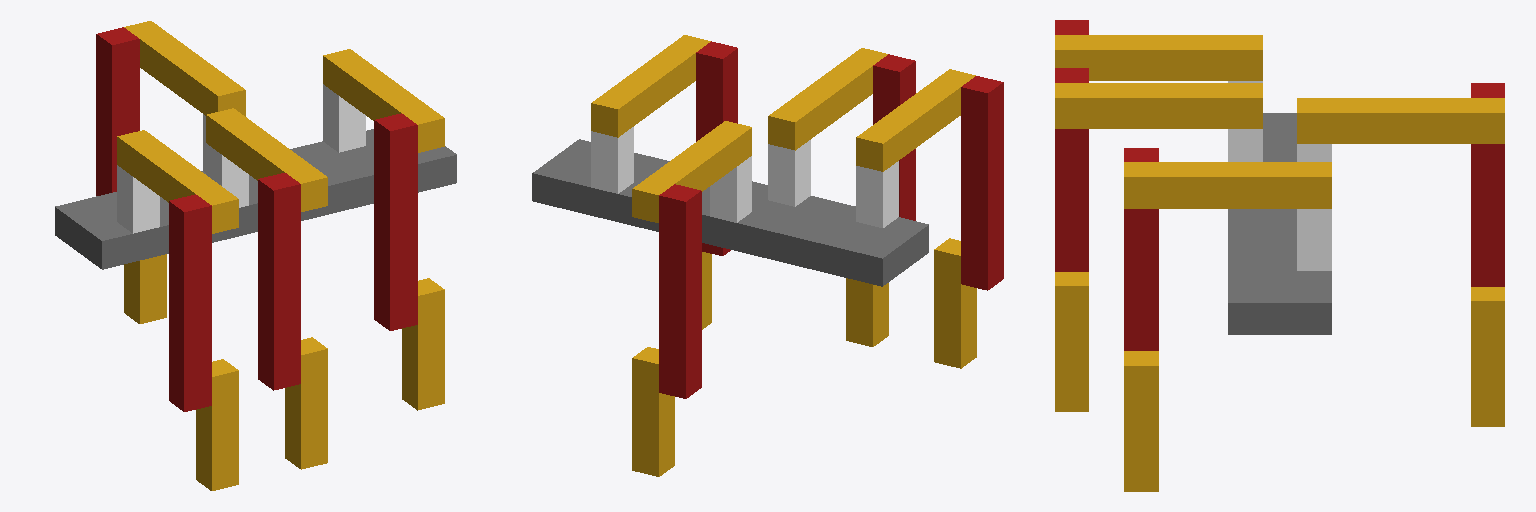
URDF robot description (v0):
<?xml version="1.0" encoding="utf-8"?>
<!-- =================================================================================== -->
<!-- |    This document was autogenerated by xacro from ../robots/v0variants/xacros/v0_4l_gen_1.xacro | -->
<!-- |    EDITING THIS FILE BY HAND IS NOT RECOMMENDED                                 | -->
<!-- =================================================================================== -->
<robot name="v0">
  <material name="grey">
    <color rgba="0.5 0.5 0.5 1"/>
  </material>
  <material name="white">
    <color rgba="1 1 1 1"/>
  </material>
  <material name="yellow">
    <color rgba="0.91 0.7 0.14 1"/>
  </material>
  <material name="red">
    <color rgba="0.71 0.14 0.14 1"/>
  </material>
  <link name="body">
    <visual>
      <geometry>
        <box size="1.3 0.3 0.1"/>
      </geometry>
      <material name="grey"/>
      <origin rpy="0 0 0" xyz="0 0 0.7"/>
    </visual>
    <collision>
      <geometry>
        <box size="1.3 0.3 0.1"/>
      </geometry>
      <origin rpy="0 0 0" xyz="0 0 0.7"/>
    </collision>
    <inertial>
      <mass value="99.84"/>
      <inertia ixx="0.832" ixy="0.0" ixz="0.0" iyy="14.144" iyz="0.0" izz="14.8096"/>
    </inertial>
  </link>
  <link name="l1_segment_1">
    <visual>
      <geometry>
        <box size="0.1 0.1 0.2"/>
      </geometry>
      <material name="white"/>
      <origin rpy="0 0 0" xyz="0 0 0.1"/>
    </visual>
    <collision>
      <geometry>
        <box size="0.1 0.1 0.2"/>
      </geometry>
      <origin rpy="0 0 0" xyz="0 0 0.1"/>
    </collision>
    <inertial>
      <mass value="5.12"/>
      <inertia ixx="0.0213333333333" ixy="0.0" ixz="0.0" iyy="0.0213333333333" iyz="0.0" izz="0.00853333333333"/>
    </inertial>
  </link>
  <joint name="l1_base_to_joint_1" type="fixed">
    <parent link="body"/>
    <child link="l1_segment_1"/>
    <origin rpy="0 0 0" xyz="-0.4871025963219311 -0.1 0.75"/>
  </joint>
  <link name="l1_segment_2_HIP">
    <visual>
      <geometry>
        <box size="0.1 0.6 0.1"/>
      </geometry>
      <material name="yellow"/>
      <origin rpy="0 0 0" xyz="0 -0.25 0"/>
    </visual>
    <collision>
      <geometry>
        <box size="0.1 0.6 0.1"/>
      </geometry>
      <origin rpy="0 0 0" xyz="0 -0.25 0"/>
    </collision>
    <inertial>
      <mass value="15.36"/>
      <inertia ixx="0.4736" ixy="0.0" ixz="0.0" iyy="0.0256" iyz="0.0" izz="0.4736"/>
    </inertial>
  </link>
  <joint name="l1_joint_1_to_2" type="revolute">
    <parent link="l1_segment_1"/>
    <child link="l1_segment_2_HIP"/>
    <origin rpy="0 0 0" xyz="0 0 0.25"/>
    <axis xyz="0.0 0.0 1.0"/>
    <limit effort="2048" lower="-1.2" upper="1.2" velocity="20"/>
  </joint>
  <link name="l1_segment_3_THIGH">
    <visual>
      <geometry>
        <box size="0.1 0.1 0.7"/>
      </geometry>
      <material name="red"/>
      <origin rpy="0 0 0" xyz="0 0 -0.3"/>
    </visual>
    <collision>
      <geometry>
        <box size="0.1 0.1 0.7"/>
      </geometry>
      <origin rpy="0 0 0" xyz="0 0 -0.3"/>
    </collision>
    <inertial>
      <mass value="17.92"/>
      <inertia ixx="0.746666666667" ixy="0.0" ixz="0.0" iyy="0.746666666667" iyz="0.0" izz="0.0298666666667"/>
    </inertial>
  </link>
  <joint name="l1_joint_2_to_3" type="revolute">
    <parent link="l1_segment_2_HIP"/>
    <child link="l1_segment_3_THIGH"/>
    <origin rpy="0 0 0" xyz="-0.1 -0.5 0"/>
    <axis xyz="1.0 0.0 0.0"/>
    <limit effort="2048" lower="-0.75" upper="0.2" velocity="20"/>
  </joint>
  <link name="l1_segment_4_FOOT">
    <visual>
      <geometry>
        <box size="0.1 0.1 0.4"/>
      </geometry>
      <material name="yellow"/>
      <origin rpy="0 0 0" xyz="0 0 -0.2"/>
    </visual>
    <collision>
      <geometry>
        <box size="0.1 0.1 0.4"/>
      </geometry>
      <origin rpy="0 0 0" xyz="0 0 -0.2"/>
    </collision>
    <inertial>
      <mass value="10.24"/>
      <inertia ixx="0.145066666667" ixy="0.0" ixz="0.0" iyy="0.145066666667" iyz="0.0" izz="0.0170666666667"/>
    </inertial>
  </link>
  <joint name="l1_joint_3_to_4_FOOT" type="revolute">
    <parent link="l1_segment_3_THIGH"/>
    <child link="l1_segment_4_FOOT"/>
    <origin rpy="0 0 0" xyz="0.1 0 -0.55"/>
    <axis xyz="1.0 0.0 0.0"/>
    <limit effort="2048" lower="-0.5" upper="0.2" velocity="20"/>
  </joint>
  <link name="l2_segment_1">
    <visual>
      <geometry>
        <box size="0.1 0.1 0.2"/>
      </geometry>
      <material name="white"/>
      <origin rpy="0 0 0" xyz="0 0 0.1"/>
    </visual>
    <collision>
      <geometry>
        <box size="0.1 0.1 0.2"/>
      </geometry>
      <origin rpy="0 0 0" xyz="0 0 0.1"/>
    </collision>
    <inertial>
      <mass value="5.12"/>
      <inertia ixx="0.0213333333333" ixy="0.0" ixz="0.0" iyy="0.0213333333333" iyz="0.0" izz="0.00853333333333"/>
    </inertial>
  </link>
  <joint name="l2_base_to_joint_1" type="fixed">
    <parent link="body"/>
    <child link="l2_segment_1"/>
    <origin rpy="0 0 0" xyz="-0.058941475037167956 0.1 0.75"/>
  </joint>
  <link name="l2_segment_2_HIP">
    <visual>
      <geometry>
        <box size="0.1 0.6 0.1"/>
      </geometry>
      <material name="yellow"/>
      <origin rpy="0 0 0" xyz="0 0.25 0"/>
    </visual>
    <collision>
      <geometry>
        <box size="0.1 0.6 0.1"/>
      </geometry>
      <origin rpy="0 0 0" xyz="0 0.25 0"/>
    </collision>
    <inertial>
      <mass value="15.36"/>
      <inertia ixx="0.4736" ixy="0.0" ixz="0.0" iyy="0.0256" iyz="0.0" izz="0.4736"/>
    </inertial>
  </link>
  <joint name="l2_joint_1_to_2" type="revolute">
    <parent link="l2_segment_1"/>
    <child link="l2_segment_2_HIP"/>
    <origin rpy="0 0 0" xyz="0 0 0.25"/>
    <axis xyz="0.0 0.0 1.0"/>
    <limit effort="2048" lower="-1.2" upper="1.2" velocity="20"/>
  </joint>
  <link name="l2_segment_3_THIGH">
    <visual>
      <geometry>
        <box size="0.1 0.1 0.7"/>
      </geometry>
      <material name="red"/>
      <origin rpy="0 0 0" xyz="0 0 -0.3"/>
    </visual>
    <collision>
      <geometry>
        <box size="0.1 0.1 0.7"/>
      </geometry>
      <origin rpy="0 0 0" xyz="0 0 -0.3"/>
    </collision>
    <inertial>
      <mass value="17.92"/>
      <inertia ixx="0.746666666667" ixy="0.0" ixz="0.0" iyy="0.746666666667" iyz="0.0" izz="0.0298666666667"/>
    </inertial>
  </link>
  <joint name="l2_joint_2_to_3" type="revolute">
    <parent link="l2_segment_2_HIP"/>
    <child link="l2_segment_3_THIGH"/>
    <origin rpy="0 0 0" xyz="-0.1 0.5 0"/>
    <axis xyz="1.0 0.0 0.0"/>
    <limit effort="2048" lower="-0.2" upper="0.75" velocity="20"/>
  </joint>
  <link name="l2_segment_4_FOOT">
    <visual>
      <geometry>
        <box size="0.1 0.1 0.4"/>
      </geometry>
      <material name="yellow"/>
      <origin rpy="0 0 0" xyz="0 0 -0.2"/>
    </visual>
    <collision>
      <geometry>
        <box size="0.1 0.1 0.4"/>
      </geometry>
      <origin rpy="0 0 0" xyz="0 0 -0.2"/>
    </collision>
    <inertial>
      <mass value="10.24"/>
      <inertia ixx="0.145066666667" ixy="0.0" ixz="0.0" iyy="0.145066666667" iyz="0.0" izz="0.0170666666667"/>
    </inertial>
  </link>
  <joint name="l2_joint_3_to_4_FOOT" type="revolute">
    <parent link="l2_segment_3_THIGH"/>
    <child link="l2_segment_4_FOOT"/>
    <origin rpy="0 0 0" xyz="0.1 0 -0.55"/>
    <axis xyz="1.0 0.0 0.0"/>
    <limit effort="2048" lower="-0.2" upper="0.5" velocity="20"/>
  </joint>
  <link name="l3_segment_1">
    <visual>
      <geometry>
        <box size="0.1 0.1 0.2"/>
      </geometry>
      <material name="white"/>
      <origin rpy="0 0 0" xyz="0 0 0.1"/>
    </visual>
    <collision>
      <geometry>
        <box size="0.1 0.1 0.2"/>
      </geometry>
      <origin rpy="0 0 0" xyz="0 0 0.1"/>
    </collision>
    <inertial>
      <mass value="5.12"/>
      <inertia ixx="0.0213333333333" ixy="0.0" ixz="0.0" iyy="0.0213333333333" iyz="0.0" izz="0.00853333333333"/>
    </inertial>
  </link>
  <joint name="l3_base_to_joint_1" type="fixed">
    <parent link="body"/>
    <child link="l3_segment_1"/>
    <origin rpy="0 0 0" xyz="0.3816823201203895 0.1 0.75"/>
  </joint>
  <link name="l3_segment_2_HIP">
    <visual>
      <geometry>
        <box size="0.1 0.6 0.1"/>
      </geometry>
      <material name="yellow"/>
      <origin rpy="0 0 0" xyz="0 -0.25 0"/>
    </visual>
    <collision>
      <geometry>
        <box size="0.1 0.6 0.1"/>
      </geometry>
      <origin rpy="0 0 0" xyz="0 -0.25 0"/>
    </collision>
    <inertial>
      <mass value="15.36"/>
      <inertia ixx="0.4736" ixy="0.0" ixz="0.0" iyy="0.0256" iyz="0.0" izz="0.4736"/>
    </inertial>
  </link>
  <joint name="l3_joint_1_to_2" type="revolute">
    <parent link="l3_segment_1"/>
    <child link="l3_segment_2_HIP"/>
    <origin rpy="0 0 0" xyz="0 0 0.25"/>
    <axis xyz="0.0 0.0 1.0"/>
    <limit effort="2048" lower="-1.2" upper="1.2" velocity="20"/>
  </joint>
  <link name="l3_segment_3_THIGH">
    <visual>
      <geometry>
        <box size="0.1 0.1 0.7"/>
      </geometry>
      <material name="red"/>
      <origin rpy="0 0 0" xyz="0 0 -0.3"/>
    </visual>
    <collision>
      <geometry>
        <box size="0.1 0.1 0.7"/>
      </geometry>
      <origin rpy="0 0 0" xyz="0 0 -0.3"/>
    </collision>
    <inertial>
      <mass value="17.92"/>
      <inertia ixx="0.746666666667" ixy="0.0" ixz="0.0" iyy="0.746666666667" iyz="0.0" izz="0.0298666666667"/>
    </inertial>
  </link>
  <joint name="l3_joint_2_to_3" type="revolute">
    <parent link="l3_segment_2_HIP"/>
    <child link="l3_segment_3_THIGH"/>
    <origin rpy="0 0 0" xyz="-0.1 -0.5 0"/>
    <axis xyz="1.0 0.0 0.0"/>
    <limit effort="2048" lower="-0.75" upper="0.2" velocity="20"/>
  </joint>
  <link name="l3_segment_4_FOOT">
    <visual>
      <geometry>
        <box size="0.1 0.1 0.4"/>
      </geometry>
      <material name="yellow"/>
      <origin rpy="0 0 0" xyz="0 0 -0.2"/>
    </visual>
    <collision>
      <geometry>
        <box size="0.1 0.1 0.4"/>
      </geometry>
      <origin rpy="0 0 0" xyz="0 0 -0.2"/>
    </collision>
    <inertial>
      <mass value="10.24"/>
      <inertia ixx="0.145066666667" ixy="0.0" ixz="0.0" iyy="0.145066666667" iyz="0.0" izz="0.0170666666667"/>
    </inertial>
  </link>
  <joint name="l3_joint_3_to_4_FOOT" type="revolute">
    <parent link="l3_segment_3_THIGH"/>
    <child link="l3_segment_4_FOOT"/>
    <origin rpy="0 0 0" xyz="0.1 0 -0.55"/>
    <axis xyz="1.0 0.0 0.0"/>
    <limit effort="2048" lower="-0.5" upper="0.2" velocity="20"/>
  </joint>
  <link name="l4_segment_1">
    <visual>
      <geometry>
        <box size="0.1 0.1 0.2"/>
      </geometry>
      <material name="white"/>
      <origin rpy="0 0 0" xyz="0 0 0.1"/>
    </visual>
    <collision>
      <geometry>
        <box size="0.1 0.1 0.2"/>
      </geometry>
      <origin rpy="0 0 0" xyz="0 0 0.1"/>
    </collision>
    <inertial>
      <mass value="5.12"/>
      <inertia ixx="0.0213333333333" ixy="0.0" ixz="0.0" iyy="0.0213333333333" iyz="0.0" izz="0.00853333333333"/>
    </inertial>
  </link>
  <joint name="l4_base_to_joint_1" type="fixed">
    <parent link="body"/>
    <child link="l4_segment_1"/>
    <origin rpy="0 0 0" xyz="-0.16084594429524163 -0.1 0.75"/>
  </joint>
  <link name="l4_segment_2_HIP">
    <visual>
      <geometry>
        <box size="0.1 0.6 0.1"/>
      </geometry>
      <material name="yellow"/>
      <origin rpy="0 0 0" xyz="0 -0.25 0"/>
    </visual>
    <collision>
      <geometry>
        <box size="0.1 0.6 0.1"/>
      </geometry>
      <origin rpy="0 0 0" xyz="0 -0.25 0"/>
    </collision>
    <inertial>
      <mass value="15.36"/>
      <inertia ixx="0.4736" ixy="0.0" ixz="0.0" iyy="0.0256" iyz="0.0" izz="0.4736"/>
    </inertial>
  </link>
  <joint name="l4_joint_1_to_2" type="revolute">
    <parent link="l4_segment_1"/>
    <child link="l4_segment_2_HIP"/>
    <origin rpy="0 0 0" xyz="0 0 0.25"/>
    <axis xyz="0.0 0.0 1.0"/>
    <limit effort="2048" lower="-1.2" upper="1.2" velocity="20"/>
  </joint>
  <link name="l4_segment_3_THIGH">
    <visual>
      <geometry>
        <box size="0.1 0.1 0.7"/>
      </geometry>
      <material name="red"/>
      <origin rpy="0 0 0" xyz="0 0 -0.3"/>
    </visual>
    <collision>
      <geometry>
        <box size="0.1 0.1 0.7"/>
      </geometry>
      <origin rpy="0 0 0" xyz="0 0 -0.3"/>
    </collision>
    <inertial>
      <mass value="17.92"/>
      <inertia ixx="0.746666666667" ixy="0.0" ixz="0.0" iyy="0.746666666667" iyz="0.0" izz="0.0298666666667"/>
    </inertial>
  </link>
  <joint name="l4_joint_2_to_3" type="revolute">
    <parent link="l4_segment_2_HIP"/>
    <child link="l4_segment_3_THIGH"/>
    <origin rpy="0 0 0" xyz="-0.1 -0.5 0"/>
    <axis xyz="1.0 0.0 0.0"/>
    <limit effort="2048" lower="-0.75" upper="0.2" velocity="20"/>
  </joint>
  <link name="l4_segment_4_FOOT">
    <visual>
      <geometry>
        <box size="0.1 0.1 0.4"/>
      </geometry>
      <material name="yellow"/>
      <origin rpy="0 0 0" xyz="0 0 -0.2"/>
    </visual>
    <collision>
      <geometry>
        <box size="0.1 0.1 0.4"/>
      </geometry>
      <origin rpy="0 0 0" xyz="0 0 -0.2"/>
    </collision>
    <inertial>
      <mass value="10.24"/>
      <inertia ixx="0.145066666667" ixy="0.0" ixz="0.0" iyy="0.145066666667" iyz="0.0" izz="0.0170666666667"/>
    </inertial>
  </link>
  <joint name="l4_joint_3_to_4_FOOT" type="revolute">
    <parent link="l4_segment_3_THIGH"/>
    <child link="l4_segment_4_FOOT"/>
    <origin rpy="0 0 0" xyz="0.1 0 -0.55"/>
    <axis xyz="1.0 0.0 0.0"/>
    <limit effort="2048" lower="-0.5" upper="0.2" velocity="20"/>
  </joint>
</robot>

--- What the picture shows (computed from the rendered views, not written in the file) ---
The picture shows the robot from 3 angles, left to right: view 1: azimuth 30°, elevation 25°; view 2: azimuth 150°, elevation 25°; view 3: azimuth 270°, elevation 25°; orthographic projection.
Model v0 with 17 links and 16 joints (12 revolute, 4 fixed), rooted at body, posed all joints at 0.
Links seen in each view (by area): view 1: body, l3_segment_3_THIGH, l4_segment_3_THIGH, l1_segment_3_THIGH, l2_segment_3_THIGH, l2_segment_2_HIP, l4_segment_2_HIP, l1_segment_2_HIP, l3_segment_2_HIP, l3_segment_4_FOOT, l4_segment_4_FOOT, l1_segment_4_FOOT (+4 smaller); view 2: body, l2_segment_3_THIGH, l1_segment_3_THIGH, l1_segment_2_HIP, l3_segment_2_HIP, l4_segment_2_HIP, l2_segment_2_HIP, l1_segment_4_FOOT, l2_segment_4_FOOT, l3_segment_3_THIGH, l4_segment_3_THIGH, l4_segment_4_FOOT (+5 smaller); view 3: body, l3_segment_2_HIP, l2_segment_2_HIP, l4_segment_2_HIP, l1_segment_2_HIP, l3_segment_3_THIGH, l2_segment_3_THIGH, l4_segment_3_THIGH, l3_segment_4_FOOT, l2_segment_4_FOOT, l4_segment_4_FOOT, l3_segment_1 (+2 smaller).
Boxes of the visible links, x1=… form: body: x1=55, y1=129, x2=456, y2=269; l3_segment_3_THIGH: x1=374, y1=113, x2=417, y2=330; l4_segment_3_THIGH: x1=258, y1=173, x2=300, y2=390; l1_segment_3_THIGH: x1=169, y1=194, x2=211, y2=411; l2_segment_3_THIGH: x1=96, y1=27, x2=139, y2=195; l2_segment_2_HIP: x1=124, y1=21, x2=245, y2=116; l4_segment_2_HIP: x1=206, y1=108, x2=327, y2=211; l1_segment_2_HIP: x1=117, y1=130, x2=238, y2=233; l3_segment_2_HIP: x1=323, y1=49, x2=444, y2=152; l3_segment_4_FOOT: x1=402, y1=278, x2=444, y2=410; l4_segment_4_FOOT: x1=285, y1=337, x2=327, y2=469; l1_segment_4_FOOT: x1=196, y1=359, x2=238, y2=490; body: x1=532, y1=139, x2=928, y2=286; l2_segment_3_THIGH: x1=659, y1=184, x2=701, y2=398; l1_segment_3_THIGH: x1=961, y1=76, x2=1003, y2=290; l1_segment_2_HIP: x1=856, y1=69, x2=975, y2=171; l3_segment_2_HIP: x1=591, y1=35, x2=710, y2=137; l4_segment_2_HIP: x1=768, y1=48, x2=887, y2=150; l2_segment_2_HIP: x1=632, y1=121, x2=751, y2=222; l1_segment_4_FOOT: x1=934, y1=238, x2=976, y2=368; l2_segment_4_FOOT: x1=632, y1=347, x2=674, y2=476; l3_segment_3_THIGH: x1=696, y1=41, x2=737, y2=255; l4_segment_3_THIGH: x1=873, y1=54, x2=915, y2=220; l4_segment_4_FOOT: x1=846, y1=278, x2=888, y2=346; body: x1=1228, y1=113, x2=1331, y2=334; l3_segment_2_HIP: x1=1124, y1=162, x2=1331, y2=208; l2_segment_2_HIP: x1=1297, y1=98, x2=1504, y2=143; l4_segment_2_HIP: x1=1055, y1=83, x2=1262, y2=128; l1_segment_2_HIP: x1=1055, y1=35, x2=1262, y2=80; l3_segment_3_THIGH: x1=1124, y1=148, x2=1158, y2=350; l2_segment_3_THIGH: x1=1471, y1=83, x2=1504, y2=286; l4_segment_3_THIGH: x1=1055, y1=68, x2=1088, y2=271; l3_segment_4_FOOT: x1=1124, y1=351, x2=1158, y2=491; l2_segment_4_FOOT: x1=1471, y1=287, x2=1504, y2=426; l4_segment_4_FOOT: x1=1055, y1=272, x2=1088, y2=411; l3_segment_1: x1=1297, y1=209, x2=1331, y2=270.
Bounding box of the posed robot: 1.3 × 1.3 × 1 m (x, y, z).
Geometry: primitives only (box / cylinder / sphere), no mesh files.